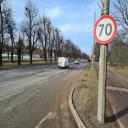speed_limit_70: (93, 12, 117, 42)
